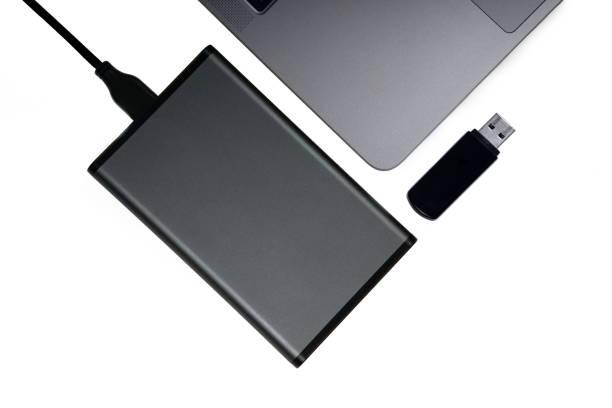HDD: (86, 45, 418, 369)
